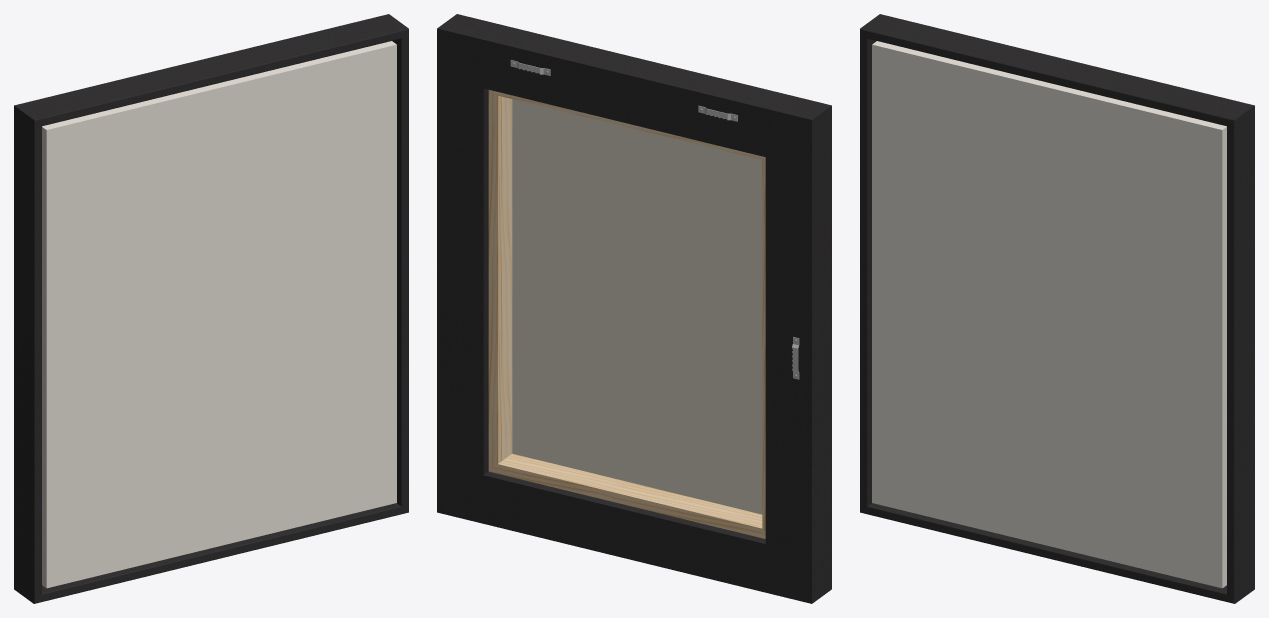
File: delivery.glb
3 views of the same model, side by side, from view 1: azimuth 30°, elevation 25°; view 2: azimuth 150°, elevation 25°; view 3: azimuth 330°, elevation 25° (orthographic).
Parts seen in each view (by area): view 1: Canvas artwork front, Tray approved profile 0; view 2: Tray approved profile 0, Canvas linen reverse, Stretcher top, Sawtooth hanger 0; view 3: Canvas artwork front, Tray approved profile 0.
Boxes of the visible parts, x1,y1,x2,y2 form: Canvas artwork front: (42, 41, 396, 588); Tray approved profile 0: (14, 14, 408, 603); Tray approved profile 0: (437, 14, 831, 603); Canvas linen reverse: (512, 99, 762, 514); Stretcher top: (488, 90, 765, 538); Sawtooth hanger 0: (510, 60, 799, 379); Canvas artwork front: (872, 41, 1226, 588); Tray approved profile 0: (860, 14, 1254, 603).
Bounding box in the file's own units: 0.428 × 0.528 × 0.0424.
7 materials, 3 textured.
